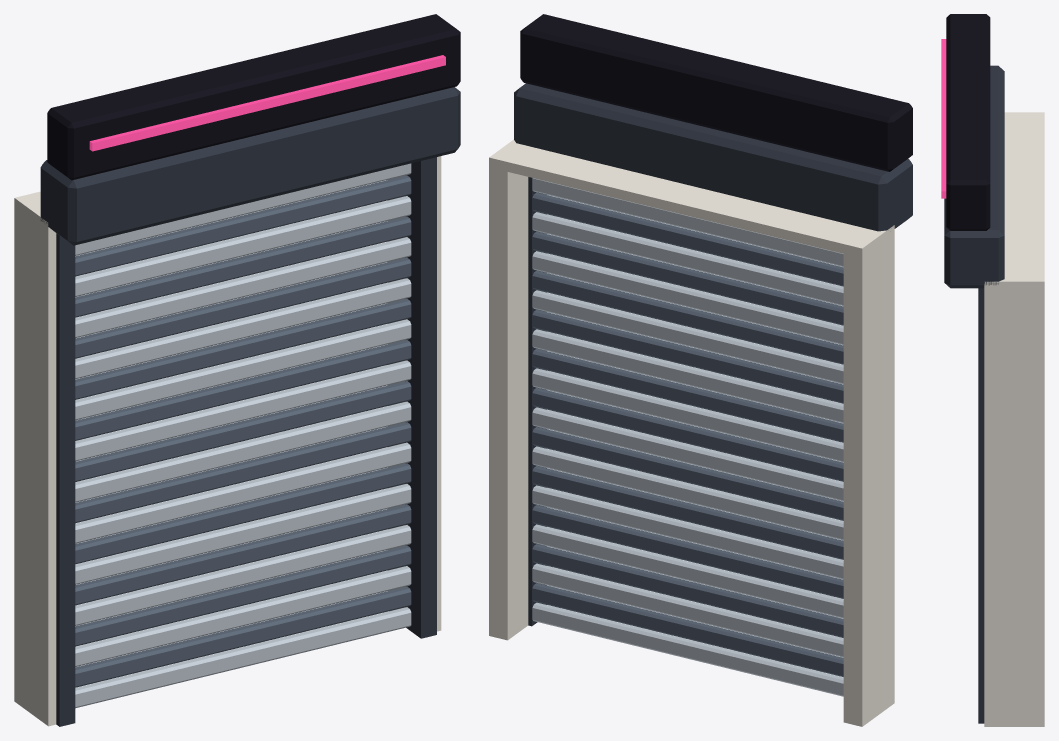
The model's file is shop_shutter.glb.
3 views of the same model, side by side, from view 1: azimuth 30°, elevation 25°; view 2: azimuth 150°, elevation 25°; view 3: azimuth 270°, elevation 25° (orthographic). The views are drawn at different scales.
Visible parts, largest first — view 1: shop_shutter; view 2: shop_shutter; view 3: shop_shutter.
Boxes of the visible parts, x1=… form: shop_shutter: x1=14, y1=14, x2=460, y2=726; shop_shutter: x1=489, y1=14, x2=912, y2=726; shop_shutter: x1=941, y1=14, x2=1044, y2=726.
Size of the model in its own units: 2 by 3 by 0.515.
3 materials, 3 textured.
